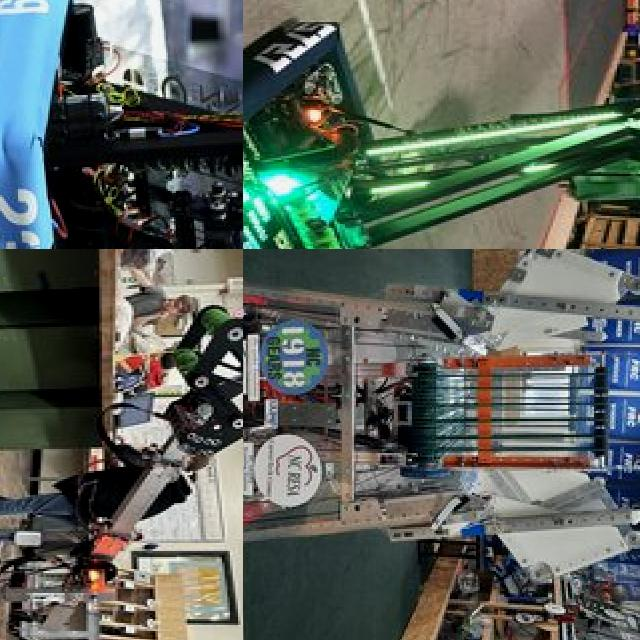FRC-Robots: (243, 249, 635, 640), (243, 0, 640, 249), (0, 280, 243, 640), (0, 0, 243, 249)
